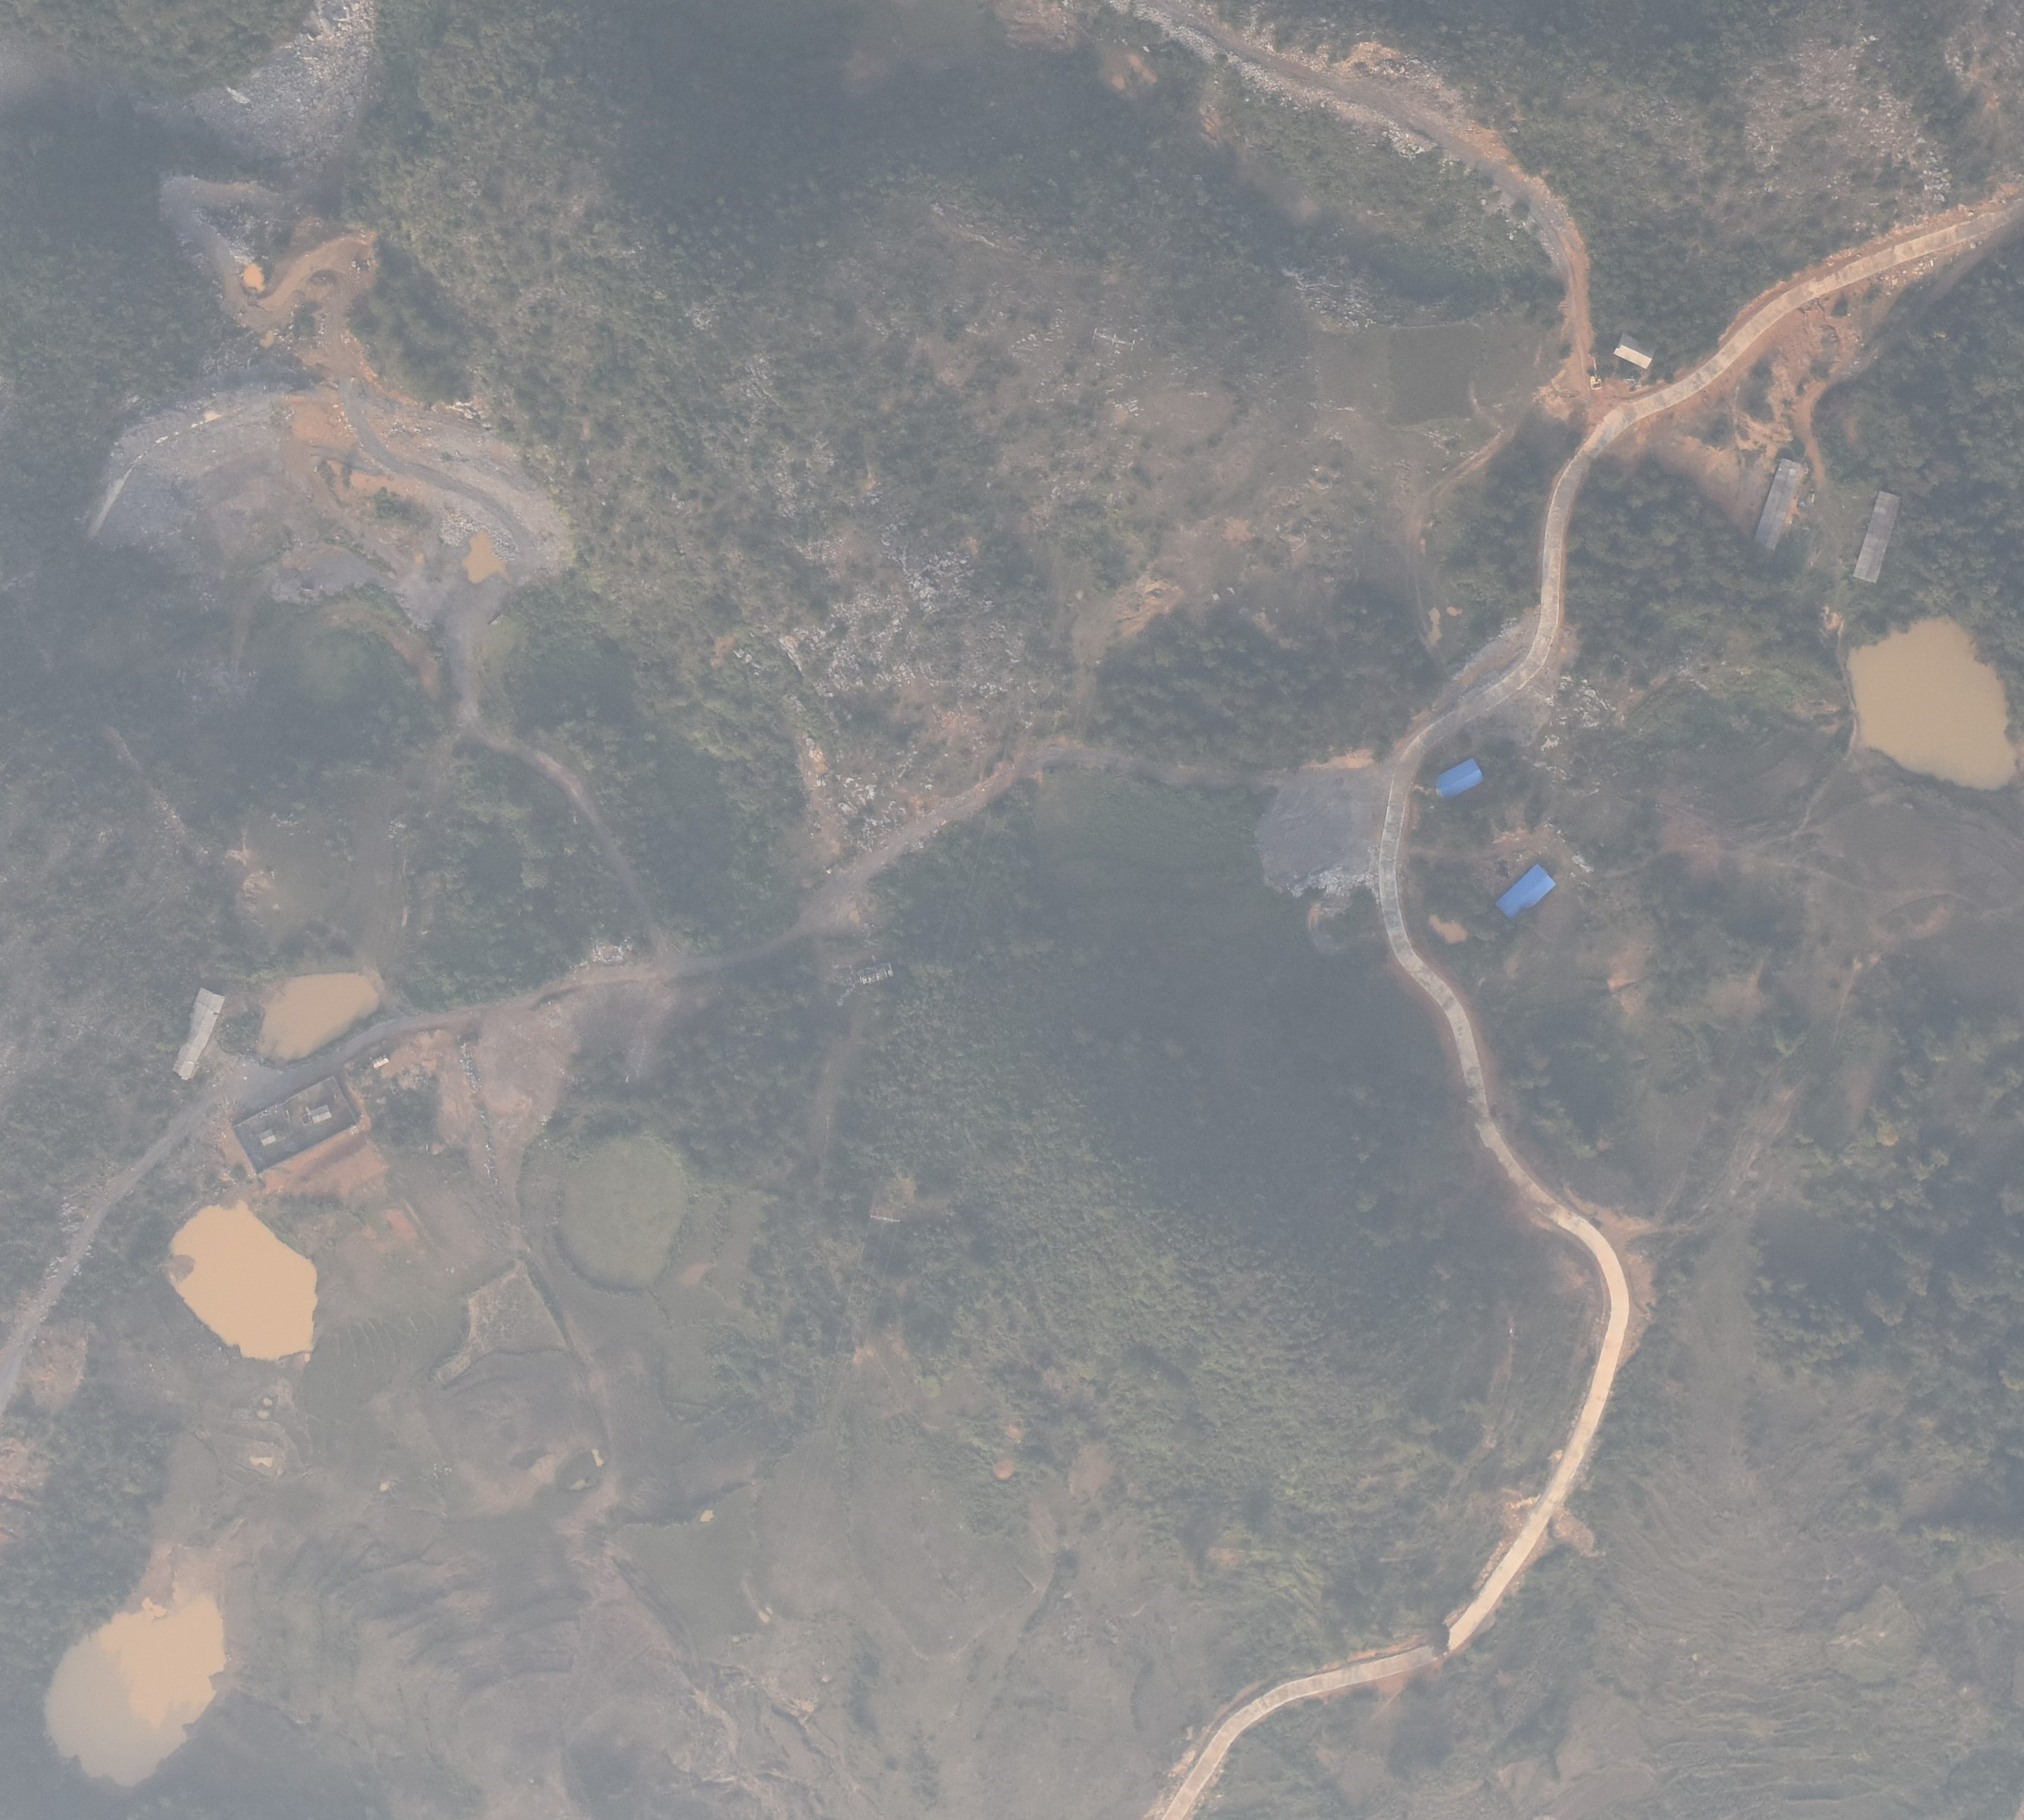building: (1746, 450, 1811, 559), (1845, 487, 1910, 590), (167, 987, 223, 1089), (1608, 327, 1664, 371), (307, 1105, 336, 1124), (258, 1128, 278, 1145)
cable-tower: (1093, 323, 1138, 357), (864, 1200, 905, 1231)
pool: (19, 1544, 244, 1795), (1840, 601, 2020, 798), (165, 1189, 329, 1369), (253, 961, 395, 1072), (1425, 903, 1471, 947)
prefabricated-house: (1492, 863, 1557, 915), (1432, 755, 1485, 801)
quarry: (100, 167, 580, 652), (1254, 759, 1397, 894)
